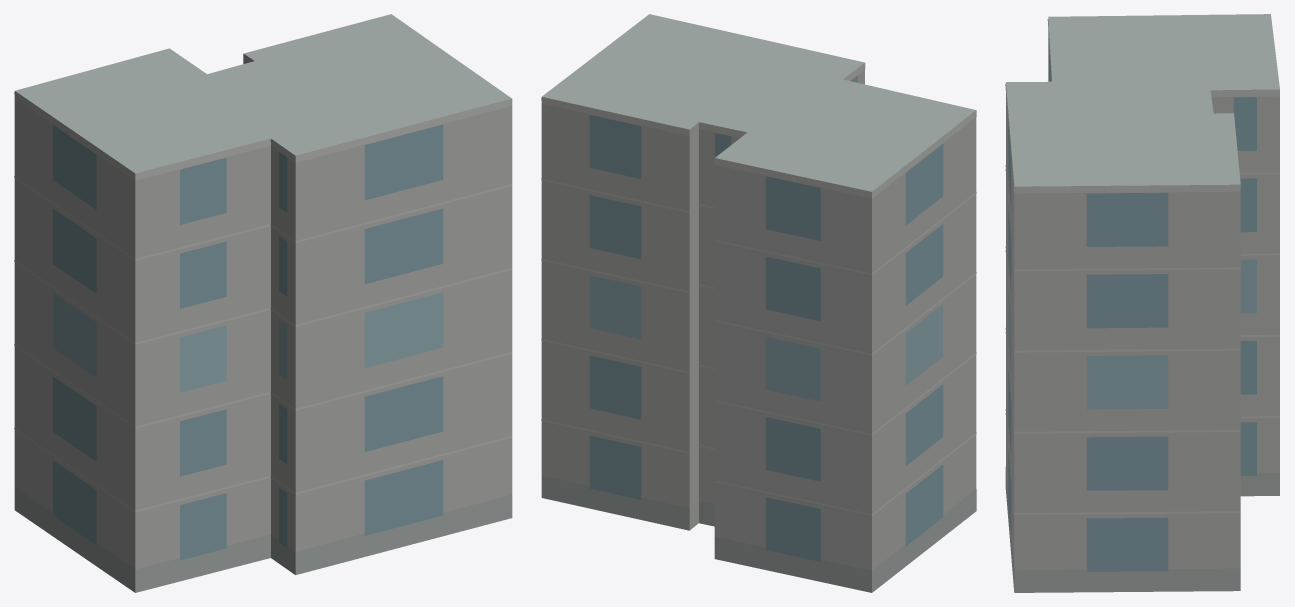
File: survey-upis-32784482.glb
3 views of the same model, side by side, from view 1: azimuth 30°, elevation 25°; view 2: azimuth 150°, elevation 25°; view 3: azimuth 270°, elevation 25° (orthographic). The views are drawn at different scales.
Visible parts, largest first — view 1: survey-upis-32784482.tmp; view 2: survey-upis-32784482.tmp; view 3: survey-upis-32784482.tmp.
Part boxes in pixels (bbox=[...]): survey-upis-32784482.tmp: bbox=[14, 14, 512, 592]; survey-upis-32784482.tmp: bbox=[541, 14, 976, 592]; survey-upis-32784482.tmp: bbox=[1005, 14, 1279, 592].
Size of the model in its own units: 12.96 by 14.2 by 8.71.
